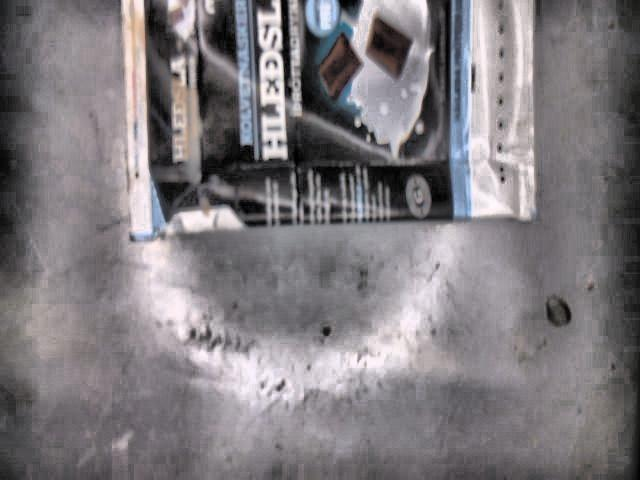Paper: (122, 0, 536, 244)
